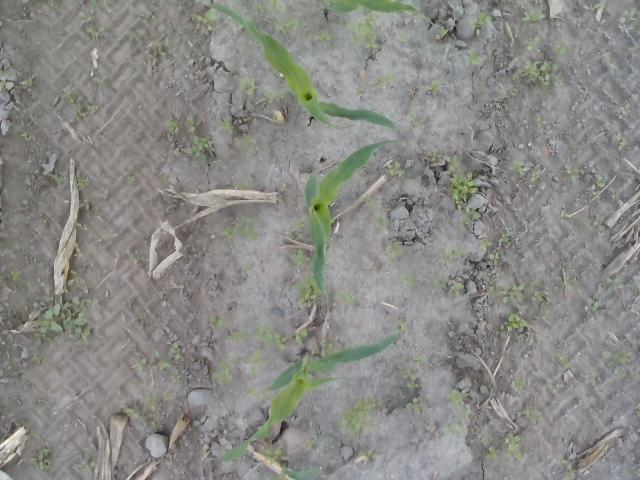Maize: (206, 0, 396, 131), (224, 330, 399, 460), (302, 138, 400, 298), (319, 0, 441, 29), (274, 459, 322, 480)
Weeds: (32, 296, 95, 344), (445, 155, 481, 226), (509, 60, 564, 96), (337, 393, 378, 439), (348, 10, 382, 48), (486, 431, 524, 462), (484, 278, 528, 304), (223, 210, 258, 240), (254, 321, 288, 351), (178, 134, 214, 161), (528, 286, 554, 320), (494, 312, 530, 336), (66, 92, 96, 120), (210, 352, 234, 386), (190, 6, 218, 34), (600, 351, 632, 375), (447, 390, 471, 421), (430, 276, 465, 297), (246, 348, 272, 376), (434, 246, 465, 269), (468, 9, 494, 36), (296, 278, 321, 306), (512, 158, 540, 183), (134, 352, 172, 370), (31, 447, 55, 472), (256, 88, 283, 110), (384, 240, 407, 264), (309, 340, 340, 357), (250, 0, 280, 17), (441, 422, 467, 440), (400, 367, 418, 392), (272, 15, 298, 32), (314, 30, 336, 50), (374, 72, 399, 89), (522, 407, 545, 425), (406, 110, 426, 130), (591, 174, 607, 198), (238, 77, 256, 98), (7, 271, 26, 290), (335, 287, 354, 306), (618, 8, 638, 26), (120, 402, 142, 418), (600, 276, 626, 289), (30, 206, 48, 224), (264, 447, 284, 463), (522, 8, 544, 22), (294, 327, 308, 349), (406, 397, 423, 415), (554, 351, 572, 368), (168, 342, 184, 361), (586, 294, 602, 313), (399, 272, 416, 289), (74, 174, 90, 192), (208, 314, 226, 330), (466, 48, 482, 66), (78, 456, 95, 472), (150, 40, 167, 56), (562, 273, 578, 290), (510, 378, 530, 391), (146, 394, 160, 412), (66, 269, 80, 287), (387, 161, 401, 178), (240, 385, 258, 398), (291, 217, 303, 236), (372, 210, 386, 226), (32, 354, 49, 367), (160, 118, 180, 129), (302, 438, 320, 450), (486, 252, 501, 266), (358, 450, 374, 463), (223, 330, 241, 341), (142, 417, 160, 428), (48, 172, 64, 184), (566, 168, 578, 184), (240, 135, 257, 146), (18, 129, 32, 142), (528, 36, 540, 51), (616, 134, 626, 152), (80, 199, 96, 210), (498, 231, 511, 244), (436, 26, 448, 40), (413, 353, 425, 367), (430, 80, 442, 94), (562, 464, 572, 480), (427, 150, 441, 161), (556, 46, 573, 55), (296, 249, 304, 268), (78, 0, 86, 19), (0, 80, 15, 90), (478, 239, 493, 249), (36, 277, 48, 289), (620, 103, 632, 114), (222, 117, 232, 130), (362, 197, 373, 208), (399, 320, 410, 331), (169, 372, 179, 384), (240, 180, 253, 189), (18, 78, 32, 86), (186, 114, 193, 130), (590, 0, 600, 11), (535, 118, 546, 128), (238, 113, 248, 124), (75, 223, 88, 231), (355, 87, 365, 97), (88, 24, 98, 34), (74, 240, 80, 256), (398, 33, 408, 42), (128, 176, 138, 184), (244, 264, 252, 272), (144, 31, 150, 41), (542, 384, 550, 391), (192, 0, 204, 4), (635, 287, 640, 296)
